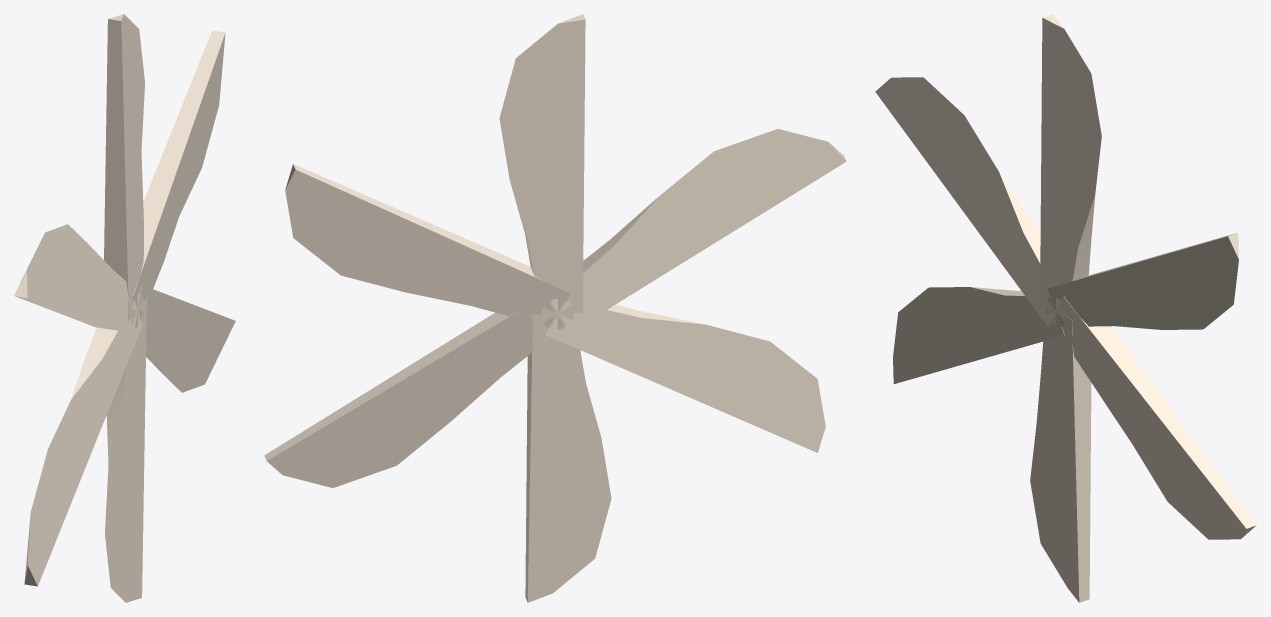
Rendered from windmill_wing.FBX.
3 renders of one model, left to right at view 1: azimuth 30°, elevation 25°; view 2: azimuth 150°, elevation 25°; view 3: azimuth 270°, elevation 25°, orthographic. The views are drawn at different scales.
Parts seen in each view (by area): view 1: Object028; view 2: Object028; view 3: Object028.
Boxes of the visible parts, <box> form: Object028: <box>14,14,235,602</box>; Object028: <box>264,14,846,602</box>; Object028: <box>875,14,1256,602</box>.
Size of the model in its own units: 4.99 by 6.94 by 4.23.
Materials: 1 (1 with a texture image).
